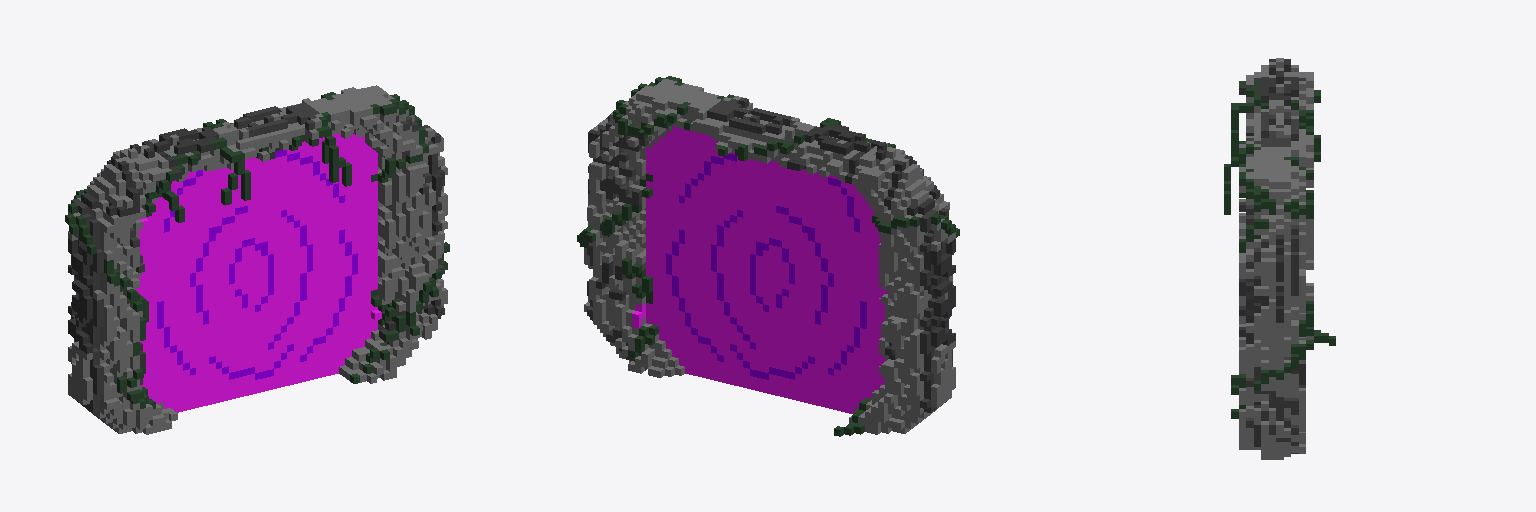
The picture shows the model from 3 angles: view 1: azimuth 30°, elevation 25°; view 2: azimuth 150°, elevation 25°; view 3: azimuth 270°, elevation 25°; orthographic projection.
Parts seen in each view (by area): view 1: object 1; view 2: object 1; view 3: object 1.
Boxes of the visible parts, <box> form: object 1: <box>65,85,449,434</box>; object 1: <box>577,76,959,436</box>; object 1: <box>1224,58,1335,459</box>.
Bounding box in the file's own units: 5.7 × 4 × 1.5.
1 materials, 1 textured.